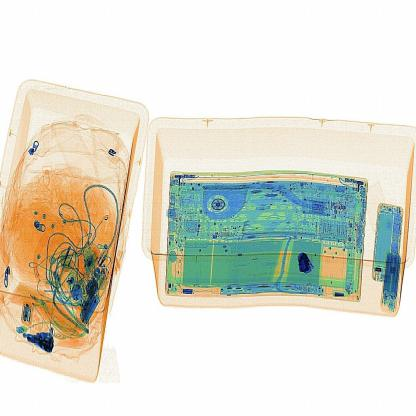scissors: (290, 245, 324, 280)
